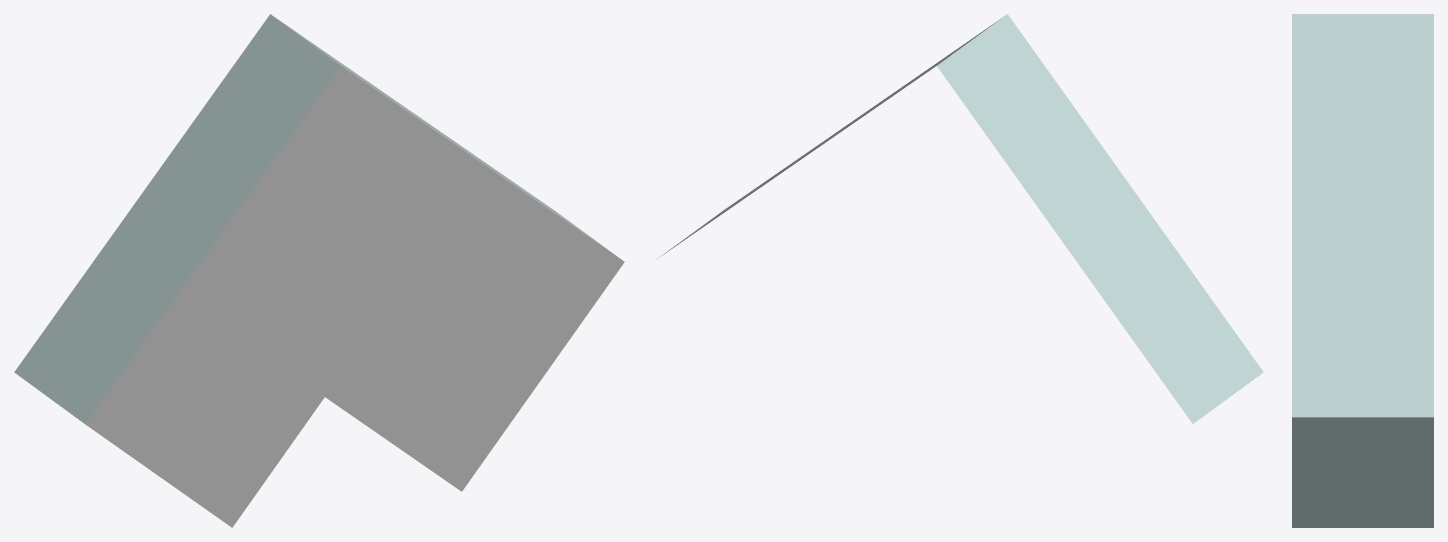
The picture shows the model from 3 angles, left to right: view 1: azimuth 30°, elevation 25°; view 2: azimuth 150°, elevation 25°; view 3: azimuth 270°, elevation 25°; orthographic projection.
Parts seen in each view (by area): view 1: 0_1_1_3_1_3_3_2_3; view 2: 0_1_1_3_1_3_3_2_3; view 3: 0_1_1_3_1_3_3_2_3.
Boxes of the visible parts, x1=… form: 0_1_1_3_1_3_3_2_3: x1=14, y1=14, x2=624, y2=527; 0_1_1_3_1_3_3_2_3: x1=656, y1=14, x2=1263, y2=423; 0_1_1_3_1_3_3_2_3: x1=1292, y1=14, x2=1433, y2=527.
Bounding box in the file's own units: 13.17 × 10.62 × 3.
